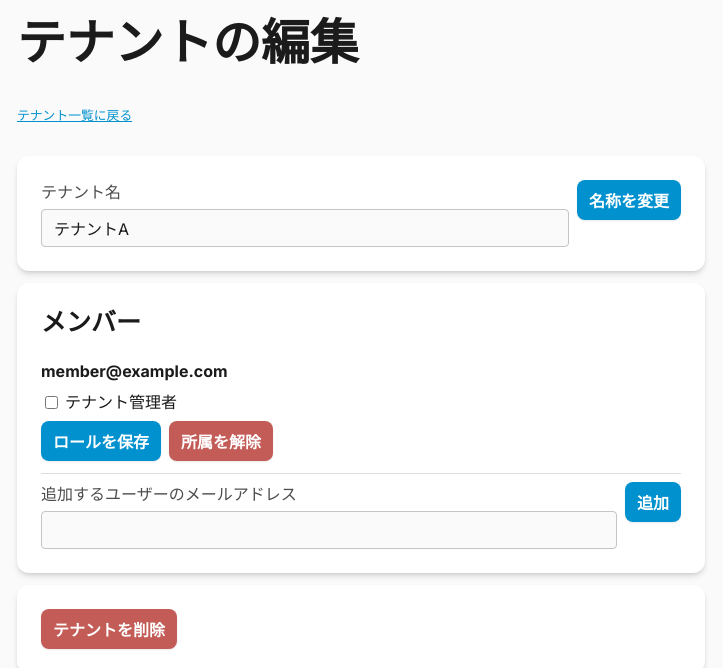
it: admin tenant detail page › 所属を解除するとメンバー一覧から外す
Click the button with aria-label "member@example.com の所属を解除" at (221,441), box left=169, top=421, right=273, bottom=461
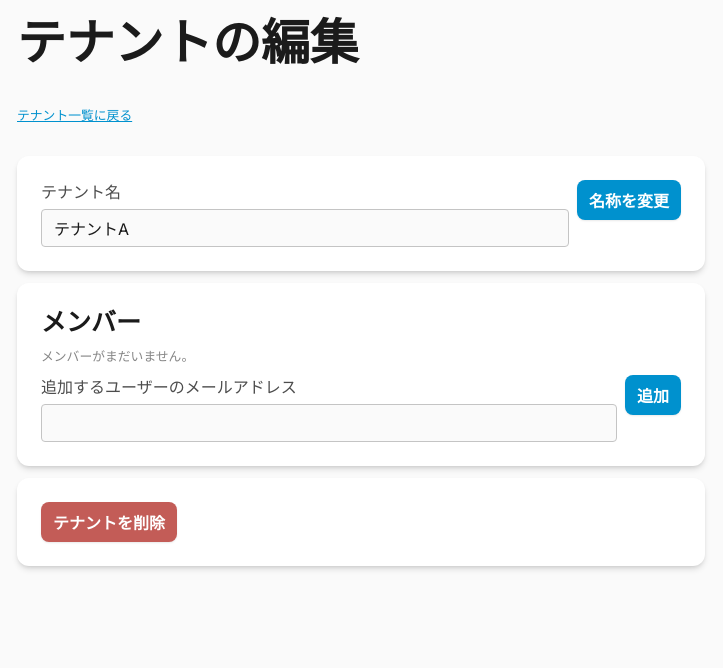
expect the list item "メンバーがまだいません。" is shown: met, box left=41, top=349, right=194, bottom=364
